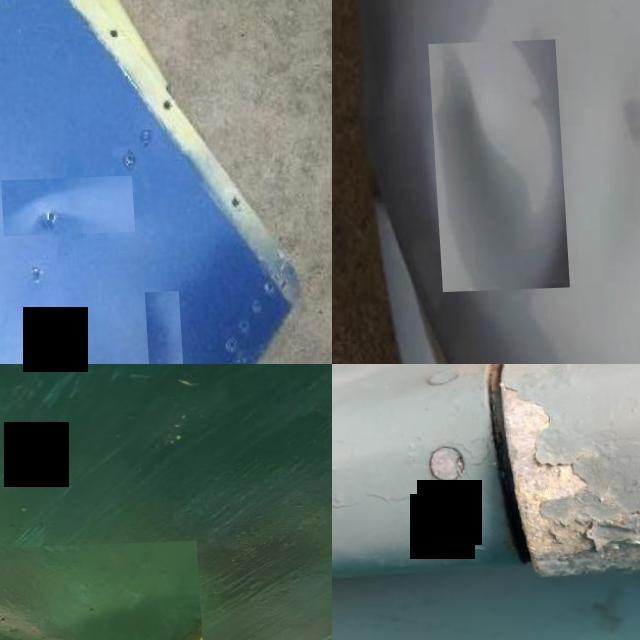Dent: (428, 44, 559, 291), (0, 544, 201, 640), (0, 180, 129, 238), (146, 295, 177, 364)
